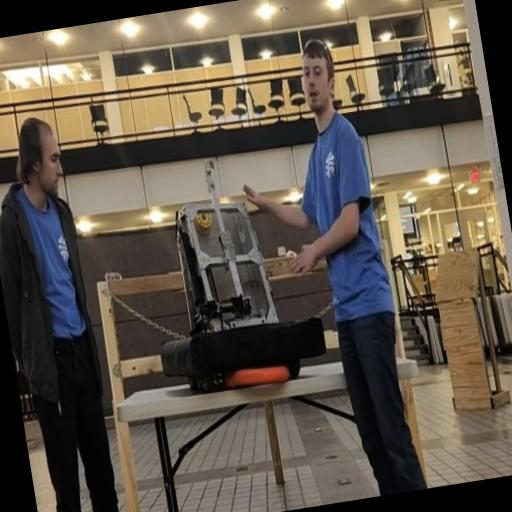robot: (132, 143, 330, 397)
